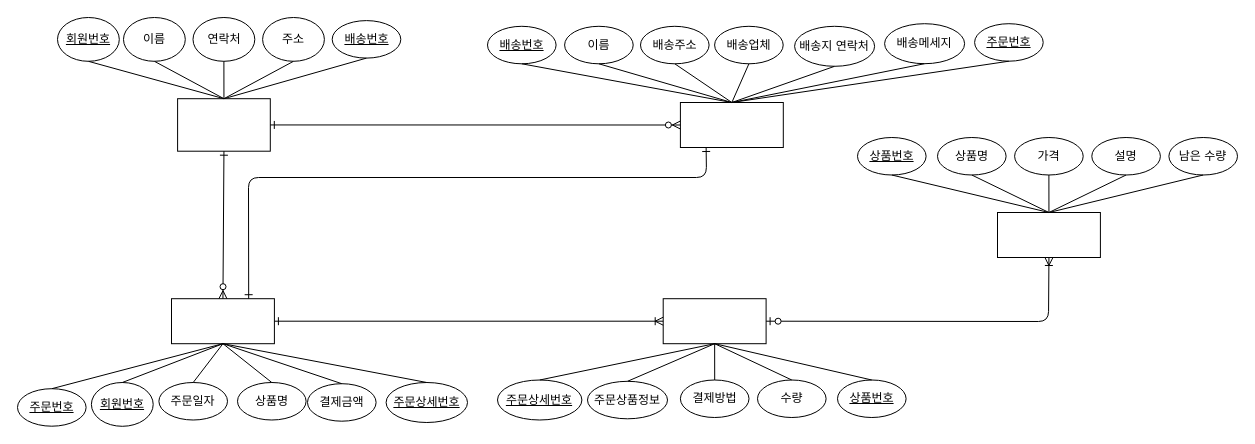
Image size: 1255x444. Some labels were removed from this diagram. Each missing label, with the box of its shape:
배송정보: (679, 102, 783, 148)
상품정보: (996, 212, 1100, 258)
주문: (170, 298, 274, 344)
주문상세: (662, 298, 766, 344)
회원정보: (177, 98, 270, 151)
